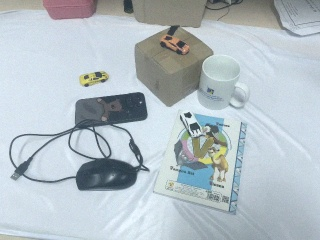book: (153, 111, 254, 215)
box: (135, 25, 214, 107), (125, 1, 210, 29)
cup: (196, 53, 252, 112)
mouse: (74, 158, 138, 191)
phone: (71, 92, 148, 126)
toy_car: (157, 32, 191, 56), (180, 110, 202, 139), (79, 71, 109, 87)
